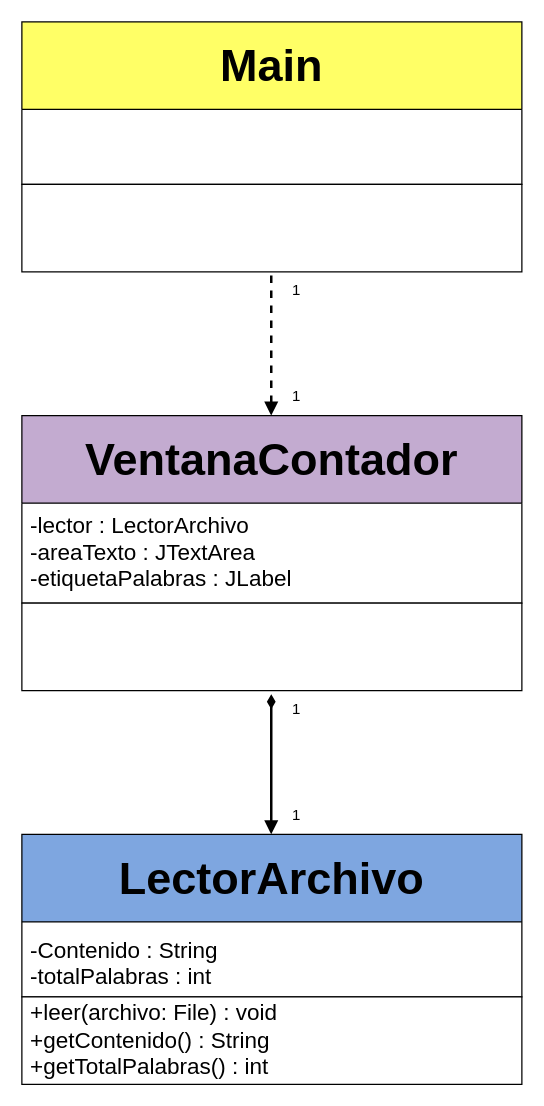
The diagram is 544 pixels wide and 1106 high, and some of its shapes have lost their labels. The centre of each missing label's shape, as x and y in pixels:
+main(args: String[]) : void: pixel 271 227
+VentanaContador(): pixel 271 646
